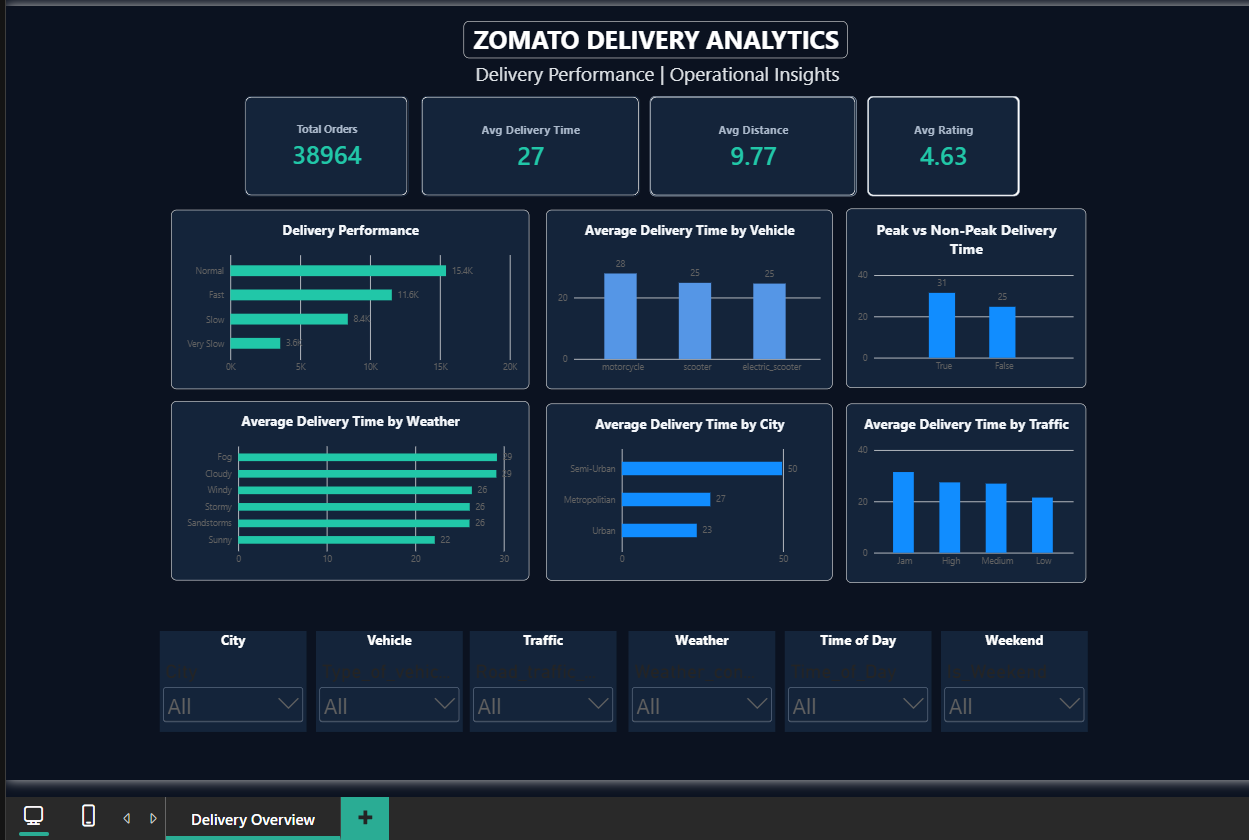

The dashboard page shown, as its layout file describes it:
{"tool":"powerbi","page":{"name":"Delivery Overview","canvas":[1920,1080],"ordinal":0},"visuals":[{"type":"textbox","title":"ZOMATO DELIVERY ANALYTICS","box":[638.5,20.5,536.4,51.8],"z":0},{"type":"cardVisual","fields":{"Data":["zomato_food_delivery_final_cleaned.Total Orders"]},"box":[333.3,125.6,228.6,140],"z":0,"group":"g1"},{"type":"slicer","title":"City","fields":{"Values":["zomato_food_delivery_final_cleaned.City"]},"box":[215.4,871.8,205.1,141],"z":0,"group":"g4"},{"type":"textbox","box":[637.5,72.5,545,50],"z":1000},{"type":"clusteredBarChart","title":"Delivery Performance","fields":{"Category":["zomato_food_delivery_final_cleaned.Delivery_Performance"],"Y":["zomato_food_delivery_final_cleaned.Total Orders"]},"box":[230.8,284.6,500,250],"z":1000,"group":"g3"},{"type":"slicer","title":"Vehicle","fields":{"Values":["zomato_food_delivery_final_cleaned.Type_of_vehicle"]},"box":[433.3,871.8,205.1,141],"z":1000,"group":"g4"},{"type":"group","id":"g1","title":"Group 1","box":[333.3,125.6,1079.5,138.5],"z":2000},{"type":"cardVisual","fields":{"Data":["zomato_food_delivery_final_cleaned.Avg Delivery Time"]},"box":[579,125.6,305.7,140],"z":2000,"group":"g1"},{"type":"clusteredColumnChart","title":"Average Delivery Time by Traffic","fields":{"Category":["zomato_food_delivery_final_cleaned.Road_traffic_density"],"Y":["zomato_food_delivery_final_cleaned.Avg Delivery Time"]},"box":[1173.3,554.6,335,250],"z":2000,"group":"g2"},{"type":"slicer","title":"Traffic","fields":{"Values":["zomato_food_delivery_final_cleaned.Road_traffic_density"]},"box":[648.7,871.8,205.1,141],"z":2000,"group":"g4"},{"type":"cardVisual","fields":{"Data":["zomato_food_delivery_final_cleaned.Avg Distance"]},"box":[898.5,126.3,288.6,140],"z":3000,"group":"g1"},{"type":"clusteredBarChart","title":"Average Delivery Time by Weather","fields":{"Category":["zomato_food_delivery_final_cleaned.Weather_conditions"],"Y":["zomato_food_delivery_final_cleaned.Avg Delivery Time"]},"box":[230.8,552.1,500,250],"z":3000,"group":"g3"},{"type":"slicer","title":"Weather","fields":{"Values":["zomato_food_delivery_final_cleaned.Weather_conditions"]},"box":[869.2,871.8,205.1,141],"z":3000,"group":"g4"},{"type":"group","id":"g2","title":"Group 7","box":[230.8,282.1,1279.5,520.5],"z":4000},{"type":"clusteredColumnChart","title":"Average Delivery Time by Vehicle","fields":{"Category":["zomato_food_delivery_final_cleaned.Type_of_vehicle"],"Y":["zomato_food_delivery_final_cleaned.Avg Delivery Time"]},"box":[753.3,284.6,400,250],"z":4000,"group":"g2"},{"type":"slicer","title":"Time of Day","fields":{"Values":["zomato_food_delivery_final_cleaned.Time_of_Day"]},"box":[1087.2,871.8,205.1,141],"z":4000,"group":"g4"},{"type":"cardVisual","fields":{"Data":["zomato_food_delivery_final_cleaned.Avg Rating"]},"box":[1201.9,125.6,212.9,140],"z":5000,"group":"g1"},{"type":"clusteredBarChart","title":"Average Delivery Time by City","fields":{"Category":["zomato_food_delivery_final_cleaned.City"],"Y":["zomato_food_delivery_final_cleaned.Avg Delivery Time"]},"box":[753.3,554.6,400,247.5],"z":5000,"group":"g2"},{"type":"slicer","title":"Weekend","fields":{"Values":["zomato_food_delivery_final_cleaned.Is_Weekend"]},"box":[1305.1,871.8,205.1,141],"z":5000,"group":"g4"},{"type":"clusteredColumnChart","title":"Peak vs Non-Peak Delivery Time","fields":{"Category":["zomato_food_delivery_final_cleaned.Peak_Hour"],"Y":["zomato_food_delivery_final_cleaned.Avg Delivery Time"]},"box":[1173.3,282.1,335,250],"z":7000,"group":"g2"},{"type":"group","id":"g3","title":"Group 5","box":[230.8,284.6,500,517.5],"z":9001,"group":"g2"},{"type":"group","id":"g4","title":"Group 2","box":[215.4,871.8,1294.9,141],"z":11006}]}

Visuals, with their boxes on the page's 1920x1080 design canvas (x1, y1, x2, y2). These are canvas units, not pixel positions in the 1249x840 screenshot, which may show the page scaled, cropped or inside an application window:
"ZOMATO DELIVERY ANALYTICS" textbox: Rect(638, 20, 1175, 72)
cardVisual - zomato_food_delivery_final_cleaned.Total Orders: Rect(333, 126, 562, 266)
"City" slicer: Rect(215, 872, 420, 1013)
textbox: Rect(638, 72, 1182, 122)
"Delivery Performance" clusteredBarChart: Rect(231, 285, 731, 535)
"Vehicle" slicer: Rect(433, 872, 638, 1013)
"Group 1" group: Rect(333, 126, 1413, 264)
cardVisual - zomato_food_delivery_final_cleaned.Avg Delivery Time: Rect(579, 126, 885, 266)
"Average Delivery Time by Traffic" clusteredColumnChart: Rect(1173, 555, 1508, 805)
"Traffic" slicer: Rect(649, 872, 854, 1013)
cardVisual - zomato_food_delivery_final_cleaned.Avg Distance: Rect(898, 126, 1187, 266)
"Average Delivery Time by Weather" clusteredBarChart: Rect(231, 552, 731, 802)
"Weather" slicer: Rect(869, 872, 1074, 1013)
"Group 7" group: Rect(231, 282, 1510, 803)
"Average Delivery Time by Vehicle" clusteredColumnChart: Rect(753, 285, 1153, 535)
"Time of Day" slicer: Rect(1087, 872, 1292, 1013)
cardVisual - zomato_food_delivery_final_cleaned.Avg Rating: Rect(1202, 126, 1415, 266)
"Average Delivery Time by City" clusteredBarChart: Rect(753, 555, 1153, 802)
"Weekend" slicer: Rect(1305, 872, 1510, 1013)
"Peak vs Non-Peak Delivery Time" clusteredColumnChart: Rect(1173, 282, 1508, 532)
"Group 5" group: Rect(231, 285, 731, 802)
"Group 2" group: Rect(215, 872, 1510, 1013)
